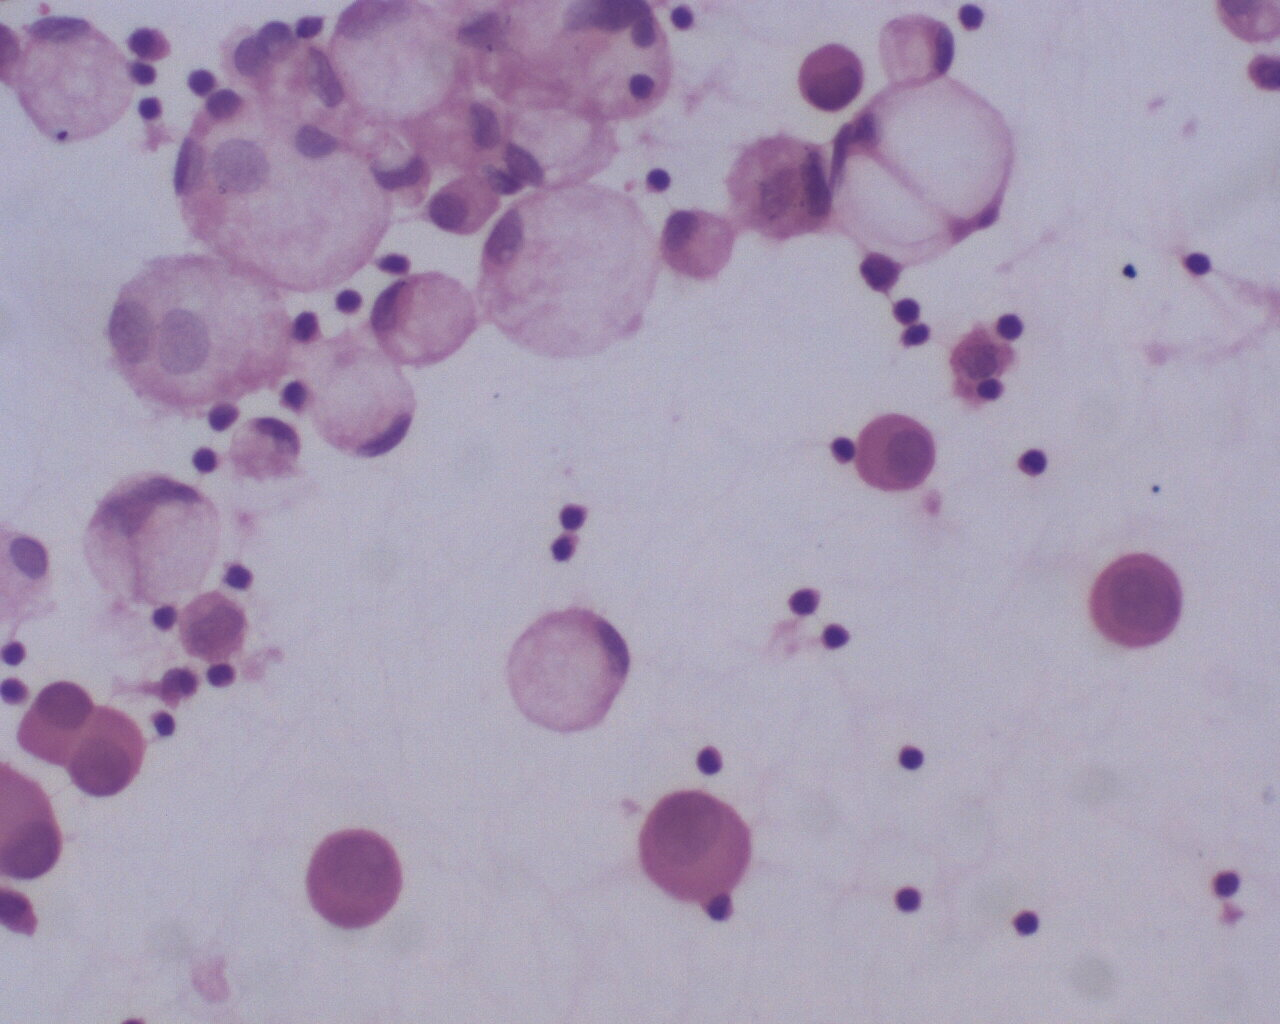ab: (829, 73, 1023, 261), (82, 473, 224, 609), (629, 786, 761, 904), (304, 827, 408, 932), (1087, 549, 1190, 651), (61, 703, 146, 796), (853, 409, 940, 490), (793, 42, 868, 117)
histo: (479, 169, 657, 360), (499, 606, 633, 736), (328, 3, 465, 123), (15, 16, 134, 140), (307, 352, 421, 463), (367, 267, 478, 370), (664, 207, 739, 288), (874, 11, 955, 86)
lymph: (888, 883, 931, 923), (1176, 245, 1216, 281), (816, 620, 855, 653), (897, 740, 926, 775)
